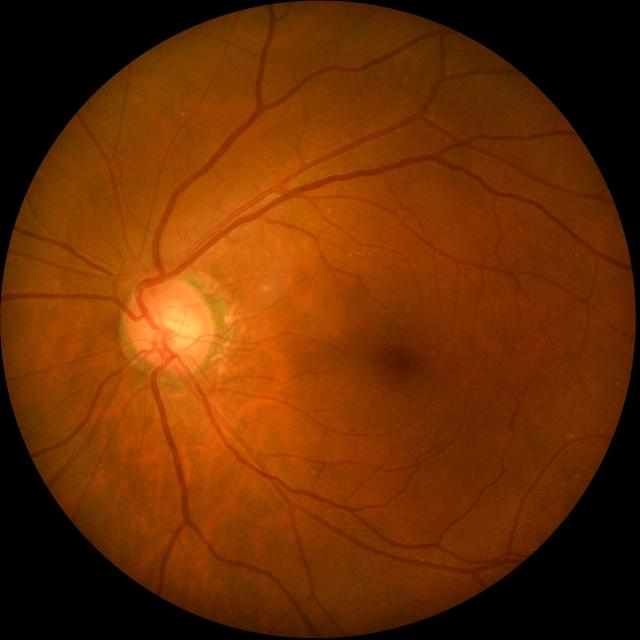OC: (149, 303, 197, 354)
OD: (125, 274, 212, 376)
